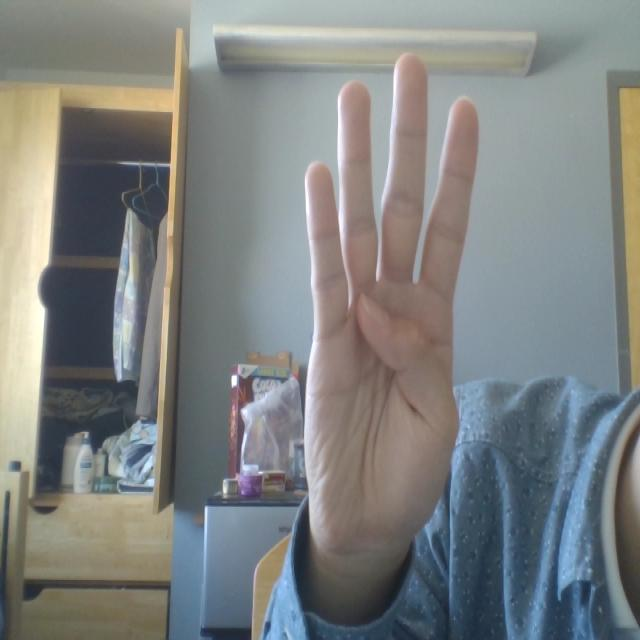B: (254, 43, 541, 570)
